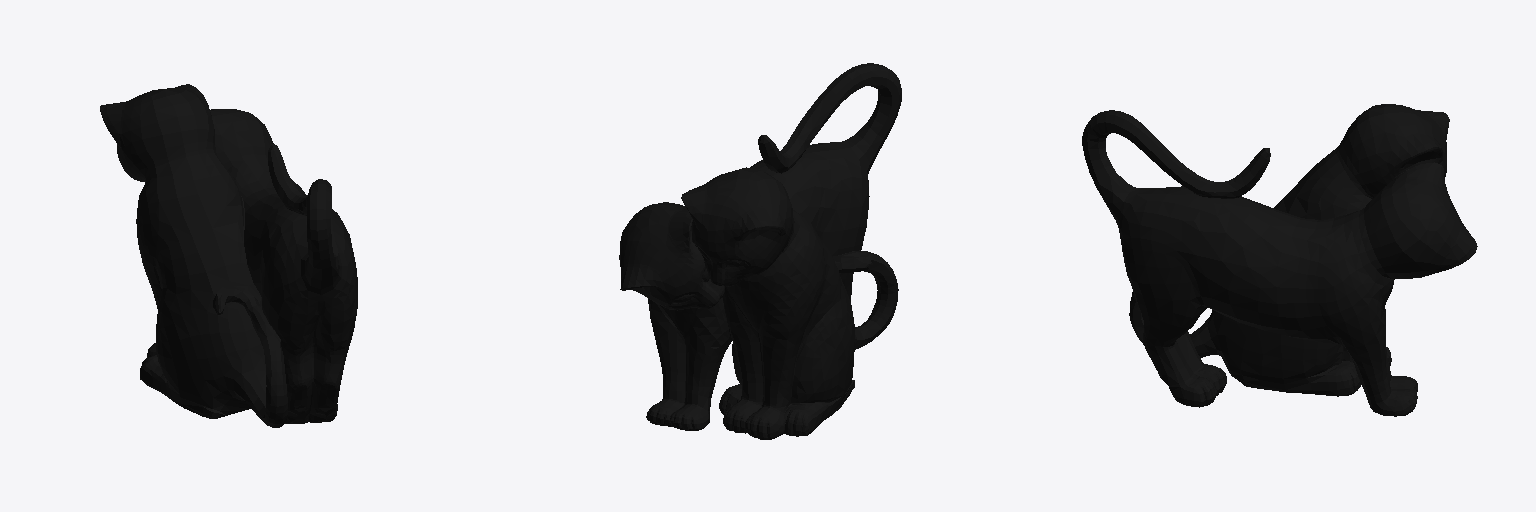
Rendered from cat2.obj.
3 views of the same model, side by side, from view 1: azimuth 30°, elevation 25°; view 2: azimuth 150°, elevation 25°; view 3: azimuth 270°, elevation 25° (orthographic).
Visible parts, largest first — view 1: Cats; view 2: Cats; view 3: Cats.
Part boxes in pixels (left/top/right/bottom): Cats: left=100, top=84, right=357, bottom=427; Cats: left=619, top=63, right=901, bottom=439; Cats: left=1082, top=104, right=1477, bottom=416.
Bounding box in the file's own units: 139 × 218 × 288.